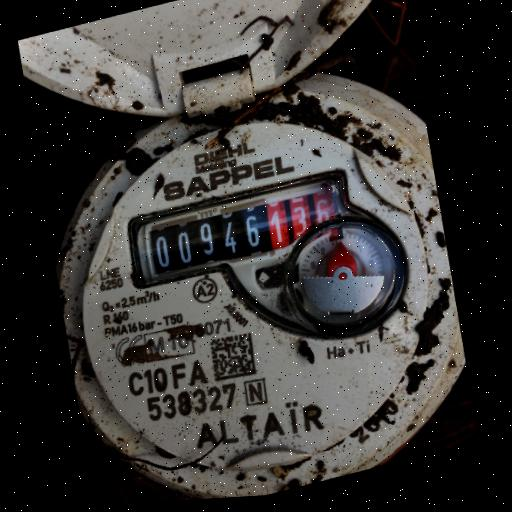0: (149, 225, 180, 274), (170, 220, 201, 269)
1: (264, 199, 294, 251)
3: (286, 193, 317, 243)
4: (215, 210, 245, 263)
6: (306, 179, 339, 227), (238, 205, 269, 256)
9: (193, 215, 223, 265)
border_water_meter_number: (124, 166, 358, 293)
